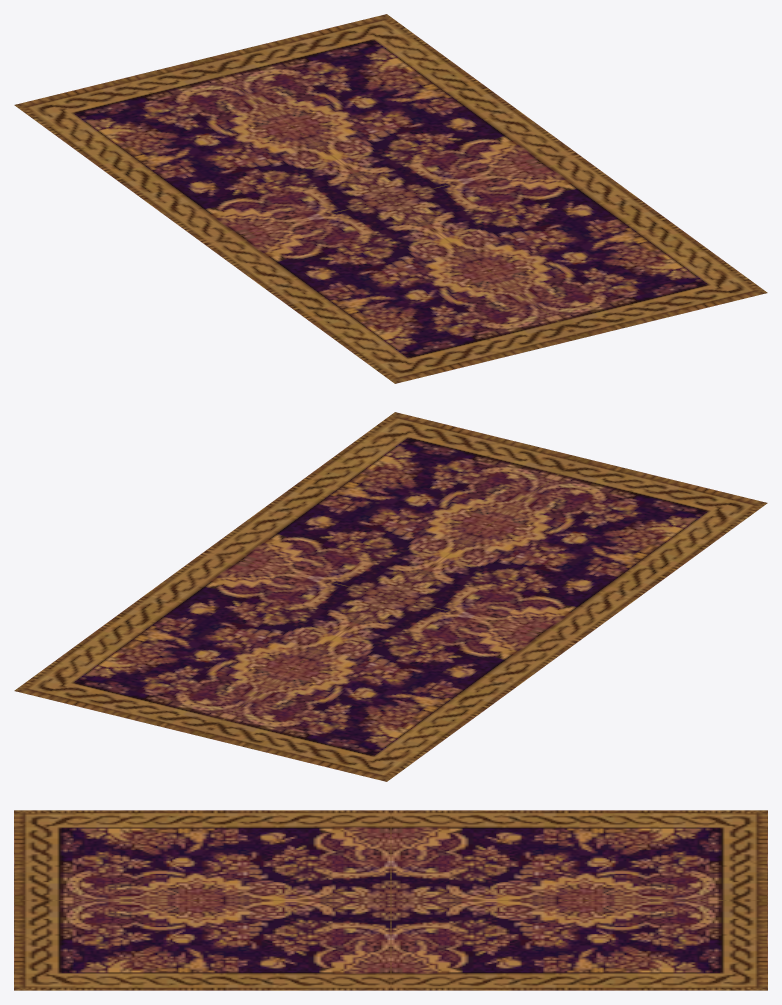
The model's file is INST_LT_CARPET4.fbx.
3 renders of one model, top to bottom at view 1: azimuth 30°, elevation 25°; view 2: azimuth 150°, elevation 25°; view 3: azimuth 270°, elevation 25°, orthographic.
Visible parts, largest first — view 1: INST_LT_CARPET4; view 2: INST_LT_CARPET4; view 3: INST_LT_CARPET4.
Part boxes in pixels (bbox=[...]): INST_LT_CARPET4: bbox=[14, 14, 767, 383]; INST_LT_CARPET4: bbox=[14, 412, 767, 781]; INST_LT_CARPET4: bbox=[14, 810, 767, 990].
Bounding box in the file's own units: 14640 × 0.00542 × 25912.
1 material, 1 textured.
